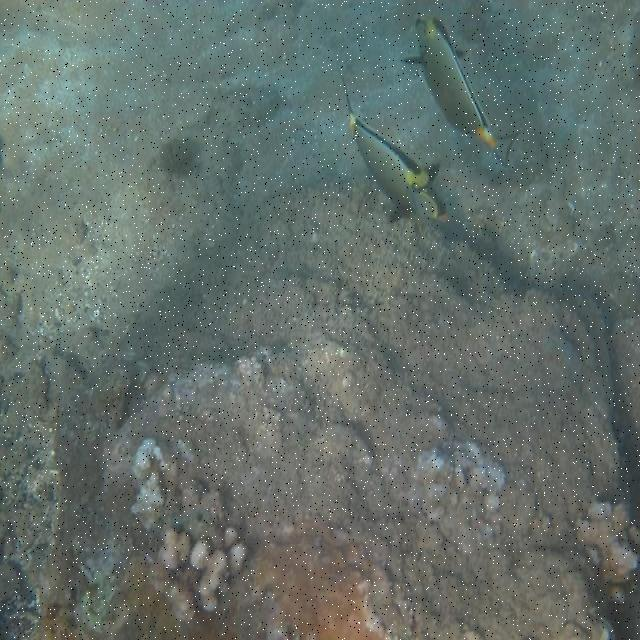fish: (401, 14, 518, 166), (339, 69, 447, 223)
